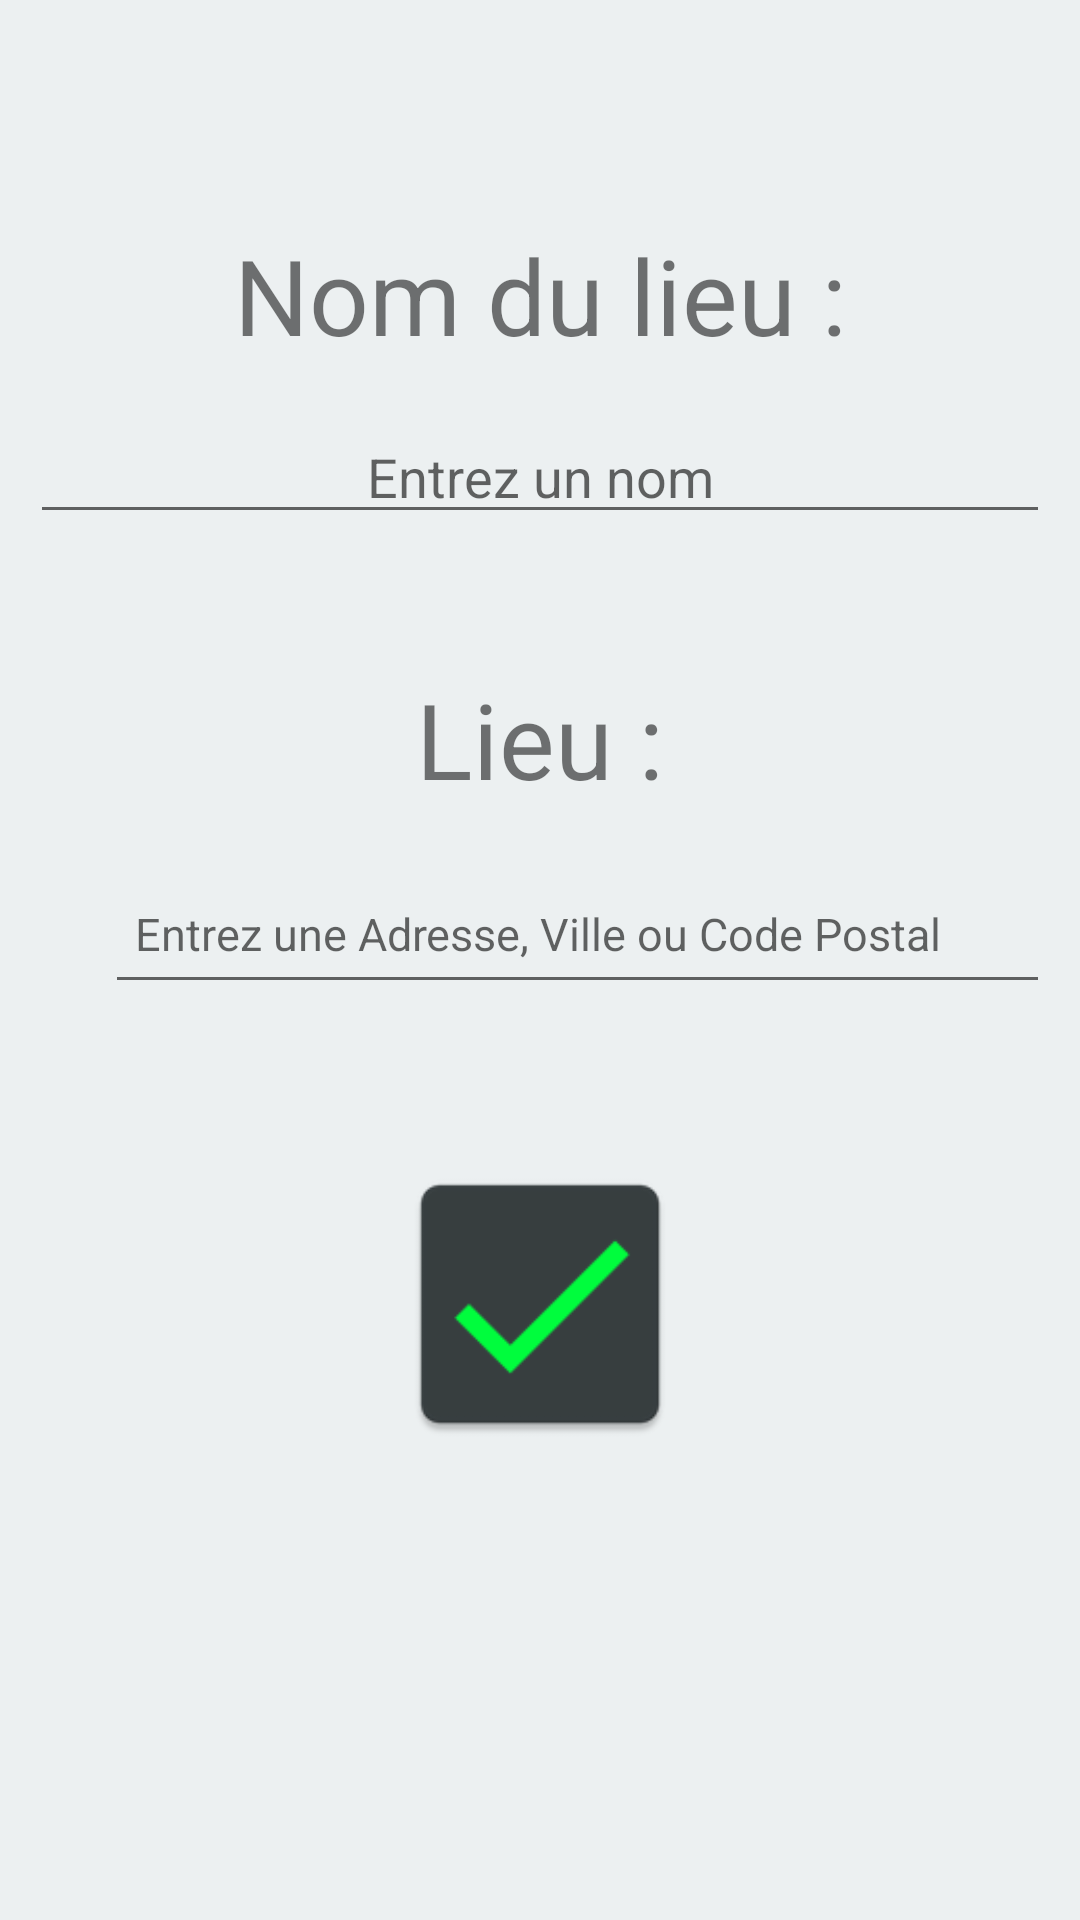

Named icons in this screenshot (1080 × 1920) and their bounding boxes, (x1,y1,x2,y2):
validation: (419,1184,661,1430)
